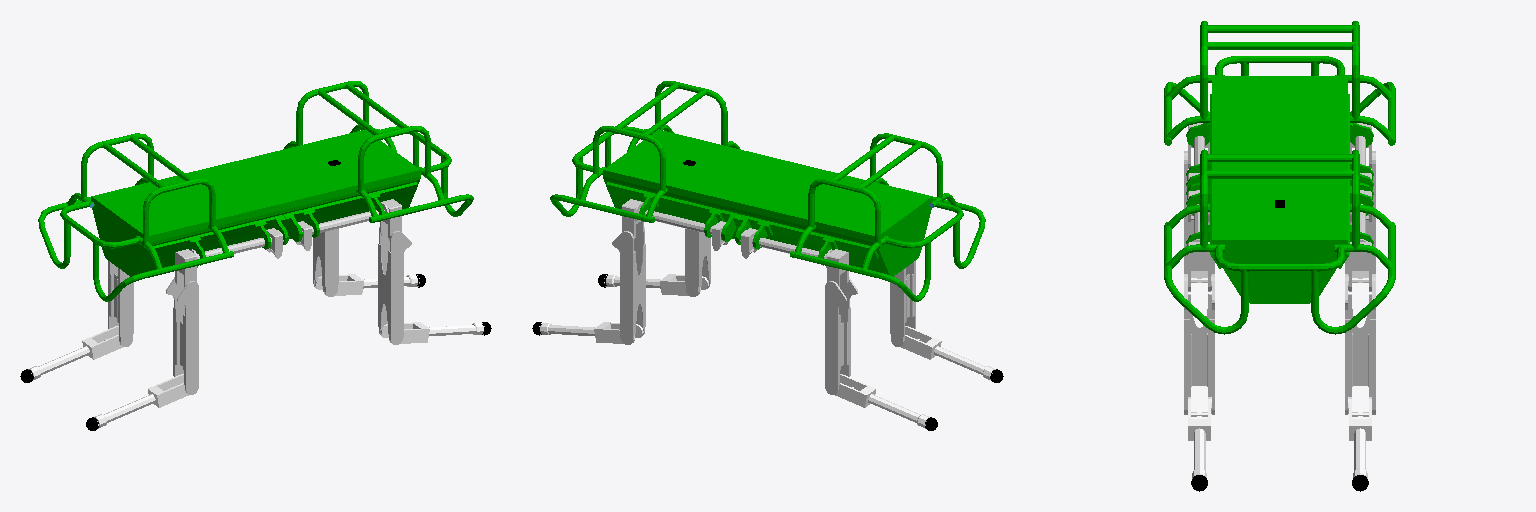
The robot description file, URDF, robot "hyq":
<?xml version='1.0' encoding='utf-8'?>
<robot name="hyq">
  <material name="white">
    <color rgba="1 1 1 1" />
  </material>
  <material name="black">
    <color rgba="0 0 0 1" />
  </material>
  
  
  
  
  
  
  
  
  
  
  
  
  
  
  
  
  
  
  
  
  
  
  
  
  
  
  
  
  
  
  
  
  
  
  
  
  
  
  <joint name="floating_base" type="fixed">
    <origin rpy="0 0 0" xyz="0 0 0" />
    <parent link="base_link" />
    <child link="trunk" />
  </joint>
  
  
  <link name="base_link">
    <inertial>
      <mass value="1e-6" />
      <inertia ixx="1e-6" ixy="1e-6" ixz="1e-6" iyy="1e-6" iyz="1e-6" izz="1e-6" />
    </inertial>
    <visual>
      <geometry>
        <cylinder length="0.01" radius="0.01" />
      </geometry>
    </visual>
  </link>
  
  <link name="trunk">
    <inertial>
      <origin xyz="0.056 0.0215 0.00358" />
      <mass value="60.96" />
      <inertia ixx="1.5725937" ixy="0.028375" ixz="-0.203139" iyy="8.5015928" iyz="-0.004462" izz="9.1954911" />
    </inertial>
    <visual>
      <geometry>
        <mesh filename="meshes/trunk.dae" scale="1 1 1" />
      </geometry>
    </visual>
    <collision>
      <geometry>
        <mesh filename="meshes/trunk.dae" scale="1 1 1" />
      </geometry>
    </collision>
  </link>
  
  
  
  
  
  <joint name="lf_haa_joint" type="revolute">
    <origin rpy="0 1.57079632679 3.14159265359" xyz="0.3735 0.207 0" />
    <parent link="trunk" />
    <child link="lf_hipassembly" />
    <axis xyz="0 0 1" />
    <limit effort="150" lower="-1.2217304764" upper="0.436332312999" velocity="12.0" />
    <dynamics damping="0.1" friction="0" />
    <safety_controller k_position="50" k_velocity="10" soft_lower_limit="-1.2217304764" soft_upper_limit="0.436332312999" />
  </joint>
  
  <joint name="lf_hfe_joint" type="revolute">
    <origin rpy="1.57079632679 0 0" xyz="0.08 0 0" />
    <parent link="lf_hipassembly" />
    <child link="lf_upperleg" />
    <axis xyz="0 0 1" />
    <limit effort="150" lower="-0.872664625997" upper="1.2217304764" velocity="12.0" />
    <dynamics damping="0.1" friction="0" />
    <safety_controller k_position="50" k_velocity="10" soft_lower_limit="-0.872664625997" soft_upper_limit="1.2217304764" />
  </joint>
  
  <joint name="lf_kfe_joint" type="revolute">
    <origin rpy="0 0 0" xyz="0.35 0 0" />
    <parent link="lf_upperleg" />
    <child link="lf_lowerleg" />
    <axis xyz="0 0 1" />
    <limit effort="150" lower="-2.44346095279" upper="-0.349065850399" velocity="12.0" />
    <dynamics damping="0.1" friction="0" />
    <safety_controller k_position="50" k_velocity="10" soft_lower_limit="-2.44346095279" soft_upper_limit="-0.349065850399" />
    
  </joint>
  <joint name="lf_foot_joint" type="fixed">
    <origin rpy="1.57079632679 0 -1.57079632679" xyz="0.346 0 0" />
    <parent link="lf_lowerleg" />
    <child link="lf_foot" />
  </joint>
  
  
  <link name="lf_hipassembly">
    <inertial>
      <origin xyz="0.04263 0.0 0.16931" />
      <mass value="2.93" />
      <inertia ixx="0.05071" ixy="-4e-05" ixz="-0.00159" iyy="0.05486" iyz="-5e-05" izz="0.00571" />
    </inertial>
    <visual>
      <origin rpy="0.0 0 0" xyz="0 0 0" />
      <geometry>
        <mesh filename="meshes/hipassembly.dae" scale="1 1 1" />
      </geometry>
    </visual>
    <collision>
      <origin rpy="0.0 0 0" xyz="0 0 0" />
      <geometry>
        <mesh filename="meshes/hipassembly.dae" scale="1 1 1" />
      </geometry>
    </collision>
  </link>
  
  <link name="lf_upperleg">
    <inertial>
      <origin xyz="0.15074 -0.02625 0.0" />
      <mass value="2.638" />
      <inertia ixx="0.00368" ixy="-0.00302" ixz="0.0001" iyy="0.02719" iyz="2e-05" izz="0.02811" />
    </inertial>
    <visual>
      <origin rpy="0.0 0 0" xyz="0 0 0" />
      <geometry>
        <mesh filename="meshes/upperleg.dae" scale="1 1 1" />
      </geometry>
    </visual>
    <collision>
      <origin rpy="0.0 0 0" xyz="0 0 0" />
      <geometry>
        <mesh filename="meshes/upperleg.dae" scale="1 1 1" />
      </geometry>
    </collision>
  </link>
  
  <link name="lf_lowerleg">
    <inertial>
      <origin xyz="0.1254 4e-05 -0.0001" />
      <mass value="0.881" />
      <inertia ixx="0.00047" ixy="6e-05" ixz="-1e-05" iyy="0.01256" iyz="-0.0" izz="0.01233" />
    </inertial>
    <visual>
      <geometry>
        <mesh filename="meshes/lowerleg.dae" scale="1 1 1" />
      </geometry>
      <material name="white" />
    </visual>
    <collision>
      <origin rpy="0 -1.57079632679 0" xyz="0.173 0 0" />
      <geometry>
        <cylinder length="0.346" radius="0.02" />
      </geometry>
    </collision>
  </link>
  
  <link name="lf_foot">
    <contact>
      <lateral_friction value="1" />
      <stiffness value="30000" />
      <damping value="1000" />
    </contact>
    <inertial>
      <mass value="1e-6" />
      <inertia ixx="1e-6" ixy="1e-6" ixz="1e-6" iyy="1e-6" iyz="1e-6" izz="1e-6" />
    </inertial>
    <collision>
      <origin rpy="0 0 0" xyz="0 0 0" />
      <geometry>
        <sphere radius="0.02175" />
      </geometry>
    </collision>
    <visual>
      <geometry>
        <sphere radius="0.02175" />
      </geometry>
      <material name="black" />
    </visual>
  </link>
  
  
  <transmission name="lf_haa_trans">
    <type>transmission_interface/SimpleTransmission</type>
    <joint name="lf_haa_joint">
      <hardwareInterface>EffortJointInterface</hardwareInterface>
    </joint>
    <actuator name="lf_haa_motor">
      <hardwareInterface>EffortJointInterface</hardwareInterface>
      <mechanicalReduction>1</mechanicalReduction>
    </actuator>
  </transmission>
  
  <transmission name="lf_hfe_trans">
    <type>transmission_interface/SimpleTransmission</type>
    <joint name="lf_hfe_joint">
      <hardwareInterface>EffortJointInterface</hardwareInterface>
    </joint>
    <actuator name="lf_hfe_motor">
      <hardwareInterface>EffortJointInterface</hardwareInterface>
      <mechanicalReduction>1</mechanicalReduction>
    </actuator>
  </transmission>
  
  <transmission name="lf_kfe_trans">
    <type>transmission_interface/SimpleTransmission</type>
    <joint name="lf_kfe_joint">
      <hardwareInterface>EffortJointInterface</hardwareInterface>
    </joint>
    <actuator name="lf_kfe_motor">
      <hardwareInterface>EffortJointInterface</hardwareInterface>
      <mechanicalReduction>1</mechanicalReduction>
    </actuator>
  </transmission>
  
  
  
  
  
  
  
  
  
  <joint name="rf_haa_joint" type="revolute">
    <origin rpy="0 1.57079632679 0" xyz="0.3735 -0.207 0" />
    <parent link="trunk" />
    <child link="rf_hipassembly" />
    <axis xyz="0 0 1" />
    <limit effort="150" lower="-1.2217304764" upper="0.436332312999" velocity="12.0" />
    <dynamics damping="0.1" friction="0" />
    <safety_controller k_position="50" k_velocity="10" soft_lower_limit="-1.2217304764" soft_upper_limit="0.436332312999" />
  </joint>
  
  <joint name="rf_hfe_joint" type="revolute">
    <origin rpy="-1.57079632679 0 0" xyz="0.08 0 0" />
    <parent link="rf_hipassembly" />
    <child link="rf_upperleg" />
    <axis xyz="0 0 1" />
    <limit effort="150" lower="-0.872664625997" upper="1.2217304764" velocity="12.0" />
    <dynamics damping="0.1" friction="0" />
    <safety_controller k_position="50" k_velocity="10" soft_lower_limit="-0.872664625997" soft_upper_limit="1.2217304764" />
  </joint>
  
  <joint name="rf_kfe_joint" type="revolute">
    <origin rpy="0 0 0" xyz="0.35 0 0" />
    <parent link="rf_upperleg" />
    <child link="rf_lowerleg" />
    <axis xyz="0 0 1" />
    <limit effort="150" lower="-2.44346095279" upper="-0.349065850399" velocity="12.0" />
    <dynamics damping="0.1" friction="0" />
    <safety_controller k_position="50" k_velocity="10" soft_lower_limit="-2.44346095279" soft_upper_limit="-0.349065850399" />
    
  </joint>
  <joint name="rf_foot_joint" type="fixed">
    <origin rpy="1.57079632679 0 -1.57079632679" xyz="0.346 0 0" />
    <parent link="rf_lowerleg" />
    <child link="rf_foot" />
  </joint>
  
  
  <link name="rf_hipassembly">
    <inertial>
      <origin xyz="0.04263 -0.0 -0.16931" />
      <mass value="2.93" />
      <inertia ixx="0.05071" ixy="4e-05" ixz="0.00159" iyy="0.05486" iyz="-5e-05" izz="0.00571" />
    </inertial>
    <visual>
      <origin rpy="3.14159265359 0 0" xyz="0 0 0" />
      <geometry>
        <mesh filename="meshes/hipassembly.dae" scale="1 1 1" />
      </geometry>
    </visual>
    <collision>
      <origin rpy="3.14159265359 0 0" xyz="0 0 0" />
      <geometry>
        <mesh filename="meshes/hipassembly.dae" scale="1 1 1" />
      </geometry>
    </collision>
  </link>
  
  <link name="rf_upperleg">
    <inertial>
      <origin xyz="0.15074 -0.02625 0.0" />
      <mass value="2.638" />
      <inertia ixx="0.00368" ixy="-0.00302" ixz="0.0001" iyy="0.02719" iyz="2e-05" izz="0.02811" />
    </inertial>
    <visual>
      <origin rpy="0.0 0 0" xyz="0 0 0" />
      <geometry>
        <mesh filename="meshes/upperleg.dae" scale="1 1 1" />
      </geometry>
    </visual>
    <collision>
      <origin rpy="0.0 0 0" xyz="0 0 0" />
      <geometry>
        <mesh filename="meshes/upperleg.dae" scale="1 1 1" />
      </geometry>
    </collision>
  </link>
  
  <link name="rf_lowerleg">
    <inertial>
      <origin xyz="0.1254 4e-05 -0.0001" />
      <mass value="0.881" />
      <inertia ixx="0.00047" ixy="6e-05" ixz="-1e-05" iyy="0.01256" iyz="-0.0" izz="0.01233" />
    </inertial>
    <visual>
      <geometry>
        <mesh filename="meshes/lowerleg.dae" scale="1 1 1" />
      </geometry>
      <material name="white" />
    </visual>
    <collision>
      <origin rpy="0 -1.57079632679 0" xyz="0.173 0 0" />
      <geometry>
        <cylinder length="0.346" radius="0.02" />
      </geometry>
    </collision>
  </link>
  
  <link name="rf_foot">
    <contact>
      <lateral_friction value="1" />
      <stiffness value="30000" />
      <damping value="1000" />
    </contact>
    <inertial>
      <mass value="1e-6" />
      <inertia ixx="1e-6" ixy="1e-6" ixz="1e-6" iyy="1e-6" iyz="1e-6" izz="1e-6" />
    </inertial>
    <collision>
      <origin rpy="0 0 0" xyz="0 0 0" />
      <geometry>
        <sphere radius="0.02175" />
      </geometry>
    </collision>
    <visual>
      <geometry>
        <sphere radius="0.02175" />
      </geometry>
      <material name="black" />
    </visual>
  </link>
  
  
  <transmission name="rf_haa_trans">
    <type>transmission_interface/SimpleTransmission</type>
    <joint name="rf_haa_joint">
      <hardwareInterface>EffortJointInterface</hardwareInterface>
    </joint>
    <actuator name="rf_haa_motor">
      <hardwareInterface>EffortJointInterface</hardwareInterface>
      <mechanicalReduction>1</mechanicalReduction>
    </actuator>
  </transmission>
  
  <transmission name="rf_hfe_trans">
    <type>transmission_interface/SimpleTransmission</type>
    <joint name="rf_hfe_joint">
      <hardwareInterface>EffortJointInterface</hardwareInterface>
    </joint>
    <actuator name="rf_hfe_motor">
      <hardwareInterface>EffortJointInterface</hardwareInterface>
      <mechanicalReduction>1</mechanicalReduction>
    </actuator>
  </transmission>
  
  <transmission name="rf_kfe_trans">
    <type>transmission_interface/SimpleTransmission</type>
    <joint name="rf_kfe_joint">
      <hardwareInterface>EffortJointInterface</hardwareInterface>
    </joint>
    <actuator name="rf_kfe_motor">
      <hardwareInterface>EffortJointInterface</hardwareInterface>
      <mechanicalReduction>1</mechanicalReduction>
    </actuator>
  </transmission>
  
  
  
  
  
  
  
  
  
  <joint name="lh_haa_joint" type="revolute">
    <origin rpy="0 1.57079632679 3.14159265359" xyz="-0.3735 0.207 0" />
    <parent link="trunk" />
    <child link="lh_hipassembly" />
    <axis xyz="0 0 1" />
    <limit effort="150" lower="-1.2217304764" upper="0.436332312999" velocity="12.0" />
    <dynamics damping="0.1" friction="0" />
    <safety_controller k_position="50" k_velocity="10" soft_lower_limit="-1.2217304764" soft_upper_limit="0.436332312999" />
  </joint>
  
  <joint name="lh_hfe_joint" type="revolute">
    <origin rpy="1.57079632679 0 0" xyz="0.08 0 0" />
    <parent link="lh_hipassembly" />
    <child link="lh_upperleg" />
    <axis xyz="0 0 1" />
    <limit effort="150" lower="-1.2217304764" upper="0.872664625997" velocity="12.0" />
    <dynamics damping="0.1" friction="0" />
    <safety_controller k_position="50" k_velocity="10" soft_lower_limit="-1.2217304764" soft_upper_limit="0.872664625997" />
  </joint>
  
  <joint name="lh_kfe_joint" type="revolute">
    <origin rpy="0 0 0" xyz="0.35 0 0" />
    <parent link="lh_upperleg" />
    <child link="lh_lowerleg" />
    <axis xyz="0 0 1" />
    <limit effort="150" lower="0.349065850399" upper="2.44346095279" velocity="12.0" />
    <dynamics damping="0.1" friction="0" />
    <safety_controller k_position="50" k_velocity="10" soft_lower_limit="0.349065850399" soft_upper_limit="2.44346095279" />
    
  </joint>
  <joint name="lh_foot_joint" type="fixed">
    <origin rpy="1.57079632679 0 -1.57079632679" xyz="0.346 0 0" />
    <parent link="lh_lowerleg" />
    <child link="lh_foot" />
  </joint>
  
  
  <link name="lh_hipassembly">
    <inertial>
      <origin xyz="0.04263 -0.0 -0.16931" />
      <mass value="2.93" />
      <inertia ixx="0.05071" ixy="4e-05" ixz="0.00159" iyy="0.05486" iyz="-5e-05" izz="0.00571" />
    </inertial>
    <visual>
      <origin rpy="3.14159265359 0 0" xyz="0 0 0" />
      <geometry>
        <mesh filename="meshes/hipassembly.dae" scale="1 1 1" />
      </geometry>
    </visual>
    <collision>
      <origin rpy="3.14159265359 0 0" xyz="0 0 0" />
      <geometry>
        <mesh filename="meshes/hipassembly.dae" scale="1 1 1" />
      </geometry>
    </collision>
  </link>
  
  <link name="lh_upperleg">
    <inertial>
      <origin xyz="0.15074 0.02625 0.0" />
      <mass value="2.638" />
      <inertia ixx="0.00368" ixy="0.00302" ixz="-0.0001" iyy="0.02719" iyz="2e-05" izz="0.02811" />
    </inertial>
    <visual>
      <origin rpy="3.14159265359 0 0" xyz="0 0 0" />
      <geometry>
        <mesh filename="meshes/upperleg.dae" scale="1 1 1" />
      </geometry>
    </visual>
    <collision>
      <origin rpy="3.14159265359 0 0" xyz="0 0 0" />
      <geometry>
        <mesh filename="meshes/upperleg.dae" scale="1 1 1" />
      </geometry>
    </collision>
  </link>
  
  <link name="lh_lowerleg">
    <inertial>
      <origin xyz="0.1254 -4e-05 0.0001" />
      <mass value="0.881" />
      <inertia ixx="0.00047" ixy="-6e-05" ixz="1e-05" iyy="0.01256" iyz="-0.0" izz="0.01233" />
    </inertial>
    <visual>
      <geometry>
        <mesh filename="meshes/lowerleg.dae" scale="1 1 1" />
      </geometry>
      <material name="white" />
    </visual>
    <collision>
      <origin rpy="0 -1.57079632679 0" xyz="0.173 0 0" />
      <geometry>
        <cylinder length="0.346" radius="0.02" />
      </geometry>
    </collision>
  </link>
  
  <link name="lh_foot">
    <contact>
      <lateral_friction value="1" />
      <stiffness value="30000" />
      <damping value="1000" />
    </contact>
    <inertial>
      <mass value="1e-6" />
      <inertia ixx="1e-6" ixy="1e-6" ixz="1e-6" iyy="1e-6" iyz="1e-6" izz="1e-6" />
    </inertial>
    <collision>
      <origin rpy="0 0 0" xyz="0 0 0" />
      <geometry>
        <sphere radius="0.02175" />
      </geometry>
    </collision>
    <visual>
      <geometry>
        <sphere radius="0.02175" />
      </geometry>
      <material name="black" />
    </visual>
  </link>
  
  
  <transmission name="lh_haa_trans">
    <type>transmission_interface/SimpleTransmission</type>
    <joint name="lh_haa_joint">
      <hardwareInterface>EffortJointInterface</hardwareInterface>
    </joint>
    <actuator name="lh_haa_motor">
      <hardwareInterface>EffortJointInterface</hardwareInterface>
      <mechanicalReduction>1</mechanicalReduction>
    </actuator>
  </transmission>
  
  <transmission name="lh_hfe_trans">
    <type>transmission_interface/SimpleTransmission</type>
    <joint name="lh_hfe_joint">
      <hardwareInterface>EffortJointInterface</hardwareInterface>
    </joint>
    <actuator name="lh_hfe_motor">
      <hardwareInterface>EffortJointInterface</hardwareInterface>
      <mechanicalReduction>1</mechanicalReduction>
    </actuator>
  </transmission>
  
  <transmission name="lh_kfe_trans">
    <type>transmission_interface/SimpleTransmission</type>
    <joint name="lh_kfe_joint">
      <hardwareInterface>EffortJointInterface</hardwareInterface>
    </joint>
    <actuator name="lh_kfe_motor">
      <hardwareInterface>EffortJointInterface</hardwareInterface>
      <mechanicalReduction>1</mechanicalReduction>
    </actuator>
  </transmission>
  
  
  
  
  
  
  
  
  
  <joint name="rh_haa_joint" type="revolute">
    <origin rpy="0 1.57079632679 0" xyz="-0.3735 -0.207 0" />
    <parent link="trunk" />
    <child link="rh_hipassembly" />
    <axis xyz="0 0 1" />
    <limit effort="150" lower="-1.2217304764" upper="0.436332312999" velocity="12.0" />
    <dynamics damping="0.1" friction="0" />
    <safety_controller k_position="50" k_velocity="10" soft_lower_limit="-1.2217304764" soft_upper_limit="0.436332312999" />
  </joint>
  
  <joint name="rh_hfe_joint" type="revolute">
    <origin rpy="-1.57079632679 0 0" xyz="0.08 0 0" />
    <parent link="rh_hipassembly" />
    <child link="rh_upperleg" />
    <axis xyz="0 0 1" />
    <limit effort="150" lower="-1.2217304764" upper="0.872664625997" velocity="12.0" />
    <dynamics damping="0.1" friction="0" />
    <safety_controller k_position="50" k_velocity="10" soft_lower_limit="-1.2217304764" soft_upper_limit="0.872664625997" />
  </joint>
  
  <joint name="rh_kfe_joint" type="revolute">
    <origin rpy="0 0 0" xyz="0.35 0 0" />
    <parent link="rh_upperleg" />
    <child link="rh_lowerleg" />
    <axis xyz="0 0 1" />
    <limit effort="150" lower="0.349065850399" upper="2.44346095279" velocity="12.0" />
    <dynamics damping="0.1" friction="0" />
    <safety_controller k_position="50" k_velocity="10" soft_lower_limit="0.349065850399" soft_upper_limit="2.44346095279" />
    
  </joint>
  <joint name="rh_foot_joint" type="fixed">
    <origin rpy="1.57079632679 0 -1.57079632679" xyz="0.346 0 0" />
    <parent link="rh_lowerleg" />
    <child link="rh_foot" />
  </joint>
  
  
  <link name="rh_hipassembly">
    <inertial>
      <origin xyz="0.04263 0.0 0.16931" />
      <mass value="2.93" />
      <inertia ixx="0.05071" ixy="-4e-05" ixz="-0.00159" iyy="0.05486" iyz="-5e-05" izz="0.00571" />
    </inertial>
    <visual>
      <origin rpy="0.0 0 0" xyz="0 0 0" />
      <geometry>
        <mesh filename="meshes/hipassembly.dae" scale="1 1 1" />
      </geometry>
    </visual>
    <collision>
      <origin rpy="0.0 0 0" xyz="0 0 0" />
      <geometry>
        <mesh filename="meshes/hipassembly.dae" scale="1 1 1" />
      </geometry>
    </collision>
  </link>
  
  <link name="rh_upperleg">
    <inertial>
      <origin xyz="0.15074 0.02625 0.0" />
      <mass value="2.638" />
      <inertia ixx="0.00368" ixy="0.00302" ixz="-0.0001" iyy="0.02719" iyz="2e-05" izz="0.02811" />
    </inertial>
    <visual>
      <origin rpy="3.14159265359 0 0" xyz="0 0 0" />
      <geometry>
        <mesh filename="meshes/upperleg.dae" scale="1 1 1" />
      </geometry>
    </visual>
    <collision>
      <origin rpy="3.14159265359 0 0" xyz="0 0 0" />
      <geometry>
        <mesh filename="meshes/upperleg.dae" scale="1 1 1" />
      </geometry>
    </collision>
  </link>
  
  <link name="rh_lowerleg">
    <inertial>
      <origin xyz="0.1254 -4e-05 0.0001" />
      <mass value="0.881" />
      <inertia ixx="0.00047" ixy="-6e-05" ixz="1e-05" iyy="0.01256" iyz="-0.0" izz="0.01233" />
    </inertial>
    <visual>
      <geometry>
        <mesh filename="meshes/lowerleg.dae" scale="1 1 1" />
      </geometry>
      <material name="white" />
    </visual>
    <collision>
      <origin rpy="0 -1.57079632679 0" xyz="0.173 0 0" />
      <geometry>
        <cylinder length="0.346" radius="0.02" />
      </geometry>
    </collision>
  </link>
  
  <link name="rh_foot">
    <contact>
      <lateral_friction value="1" />
      <stiffness value="30000" />
      <damping value="1000" />
    </contact>
    <inertial>
      <mass value="1e-6" />
      <inertia ixx="1e-6" ixy="1e-6" ixz="1e-6" iyy="1e-6" iyz="1e-6" izz="1e-6" />
    </inertial>
    <collision>
      <origin rpy="0 0 0" xyz="0 0 0" />
      <geometry>
        <sphere radius="0.02175" />
      </geometry>
    </collision>
    <visual>
      <geometry>
        <sphere radius="0.02175" />
      </geometry>
      <material name="black" />
    </visual>
  </link>
  
  
  <transmission name="rh_haa_trans">
    <type>transmission_interface/SimpleTransmission</type>
    <joint name="rh_haa_joint">
      <hardwareInterface>EffortJointInterface</hardwareInterface>
    </joint>
    <actuator name="rh_haa_motor">
      <hardwareInterface>EffortJointInterface</hardwareInterface>
      <mechanicalReduction>1</mechanicalReduction>
    </actuator>
  </transmission>
  
  <transmission name="rh_hfe_trans">
    <type>transmission_interface/SimpleTransmission</type>
    <joint name="rh_hfe_joint">
      <hardwareInterface>EffortJointInterface</hardwareInterface>
    </joint>
    <actuator name="rh_hfe_motor">
      <hardwareInterface>EffortJointInterface</hardwareInterface>
      <mechanicalReduction>1</mechanicalReduction>
    </actuator>
  </transmission>
  
  <transmission name="rh_kfe_trans">
    <type>transmission_interface/SimpleTransmission</type>
    <joint name="rh_kfe_joint">
      <hardwareInterface>EffortJointInterface</hardwareInterface>
    </joint>
    <actuator name="rh_kfe_motor">
      <hardwareInterface>EffortJointInterface</hardwareInterface>
      <mechanicalReduction>1</mechanicalReduction>
    </actuator>
  </transmission>
  
  
  
  
  
  
  
  
  <joint name="trunk_imu_joint" type="fixed">
    <origin rpy="0 -3.14159265359 0" xyz="0.290 0.000 0.0999214" />
    <parent link="trunk" />
    <child link="trunk_imu" />
  </joint>
  
  <link name="trunk_imu">
    <inertial>
      <origin xyz="-0.00020 0.00010 0.00110" />
      <mass value="0.018" />
      <inertia ixx="0.0" ixy="0.0" ixz="0.0" iyy="0.0" iyz="0.0" izz="0.0" />
    </inertial>
    <visual>
      <origin rpy="0 0 0" xyz="0.00485 0 -0.00105" />
      <geometry>
        <box size="0.0329 0.0244 0.0111" />
      </geometry>
      <material name="black">
        <color rgba="0 0 0 1.0" />
      </material>
    </visual>
  </link>
  
  
  
  
</robot>

--- What the picture shows (computed from the rendered views, not written in the file) ---
Views: 3 orthographic renders of the robot side by side, from view 1: azimuth 30°, elevation 25°; view 2: azimuth 150°, elevation 25°; view 3: azimuth 270°, elevation 25°.
Model hyq with 19 links and 18 joints (12 revolute, 6 fixed), rooted at base_link, posed joints at zero except 4 at the middle of their limits (lf_kfe_joint = -1.4, rf_kfe_joint = -1.4, lh_kfe_joint = 1.4, rh_kfe_joint = 1.4).
Visible links, largest first — view 1: trunk, rf_upperleg, rh_upperleg, lh_upperleg, lf_upperleg, rh_hipassembly, rh_lowerleg, lh_lowerleg, rf_hipassembly, rf_lowerleg, lf_lowerleg; view 2: trunk, lf_upperleg, lh_upperleg, rh_upperleg, rf_upperleg, lh_hipassembly, lh_lowerleg, rh_lowerleg, lf_hipassembly, lf_lowerleg, rf_lowerleg; view 3: trunk, lf_upperleg, rf_upperleg, lf_lowerleg, rf_lowerleg, lf_hipassembly, rf_hipassembly.
Boxes of the visible links, box(x1,y1,x2,y2) form: trunk: box(38, 81, 473, 301); rf_upperleg: box(378, 227, 411, 344); rh_upperleg: box(166, 277, 198, 394); lh_upperleg: box(108, 261, 133, 346); lf_upperleg: box(313, 229, 338, 296); rh_hipassembly: box(175, 228, 283, 287); rh_lowerleg: box(94, 374, 188, 428); lh_lowerleg: box(28, 326, 122, 379); rf_hipassembly: box(296, 199, 401, 250); rf_lowerleg: box(380, 322, 484, 343); lf_lowerleg: box(315, 274, 419, 295); trunk: box(550, 81, 985, 301); lf_upperleg: box(612, 227, 645, 344); lh_upperleg: box(825, 277, 857, 394); rh_upperleg: box(890, 261, 915, 346); rf_upperleg: box(685, 229, 710, 296); lh_hipassembly: box(740, 228, 848, 287); lh_lowerleg: box(835, 374, 929, 428); rh_lowerleg: box(901, 326, 995, 379); lf_hipassembly: box(622, 199, 727, 250); lf_lowerleg: box(539, 322, 643, 343); rf_lowerleg: box(604, 274, 708, 295); trunk: box(1164, 21, 1395, 334); lf_upperleg: box(1345, 274, 1375, 414); rf_upperleg: box(1184, 274, 1214, 414); lf_lowerleg: box(1348, 397, 1371, 478); rf_lowerleg: box(1188, 397, 1211, 478); lf_hipassembly: box(1348, 190, 1371, 291); rf_hipassembly: box(1188, 190, 1211, 291).
Bounding box of the posed robot: 1.47 × 0.5954 × 0.7818 m (x, y, z).
Meshes: 4 distinct files referenced, 13 mesh visuals loaded (4 Collada DAE).
